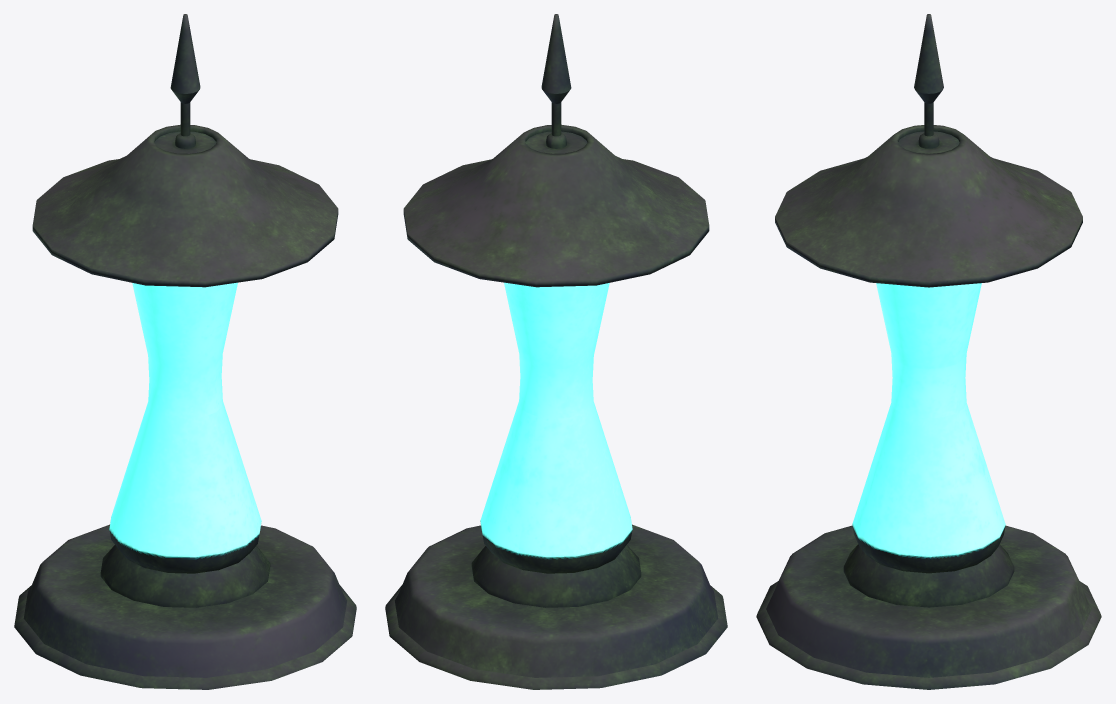
File: LamparaSuelo.fbx
3 renders of one model, left to right at view 1: azimuth 30°, elevation 25°; view 2: azimuth 150°, elevation 25°; view 3: azimuth 270°, elevation 25°, orthographic.
Visible parts, largest first — view 1: Lamp_Ground.001; view 2: Lamp_Ground.001; view 3: Lamp_Ground.001.
Part boxes in pixels (left/top/right/bottom): Lamp_Ground.001: left=14, top=14, right=356, bottom=689; Lamp_Ground.001: left=385, top=14, right=727, bottom=689; Lamp_Ground.001: left=756, top=14, right=1101, bottom=689.
Bounding box in the file's own units: 0.7877 × 1.52 × 0.7877.
